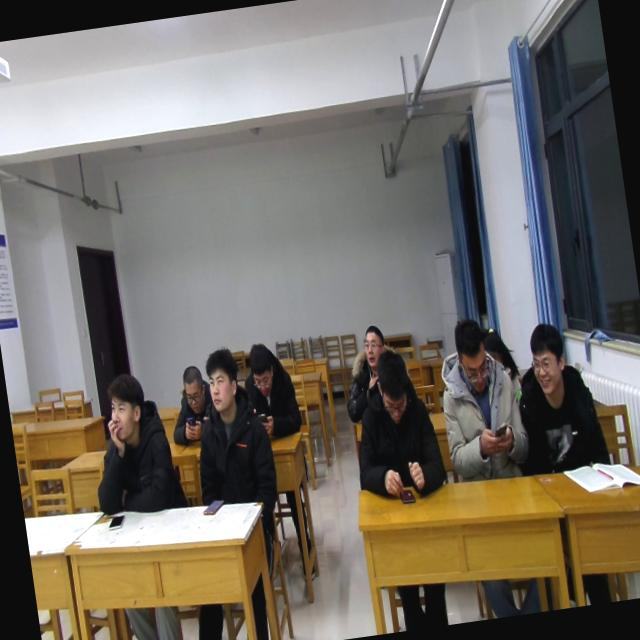bow: (237, 335, 306, 443), (163, 362, 220, 444)
down: (99, 367, 151, 448), (369, 344, 416, 430), (450, 314, 496, 398), (243, 337, 282, 399), (176, 359, 210, 418)
lookup: (522, 314, 575, 402), (198, 342, 245, 420), (356, 320, 386, 368)
sit: (428, 308, 534, 488), (341, 340, 450, 504), (179, 342, 282, 510), (78, 364, 188, 520), (508, 314, 612, 477), (334, 321, 398, 426)
